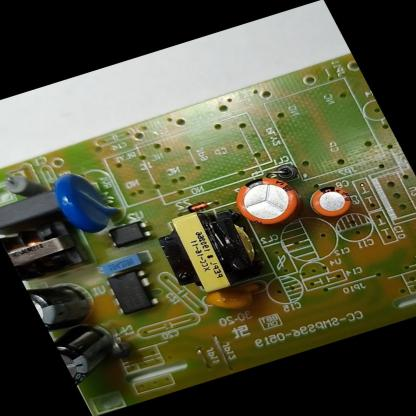Cap1: (224, 166, 312, 234)
Cap2: (300, 178, 362, 224)
Cap3: (24, 269, 102, 335)
Cap4: (51, 321, 131, 388)
MOSFET: (101, 265, 164, 320)
Mov: (41, 160, 135, 240)
Resistor: (0, 167, 47, 203)
Transformer: (144, 197, 275, 304), (0, 211, 95, 285)
